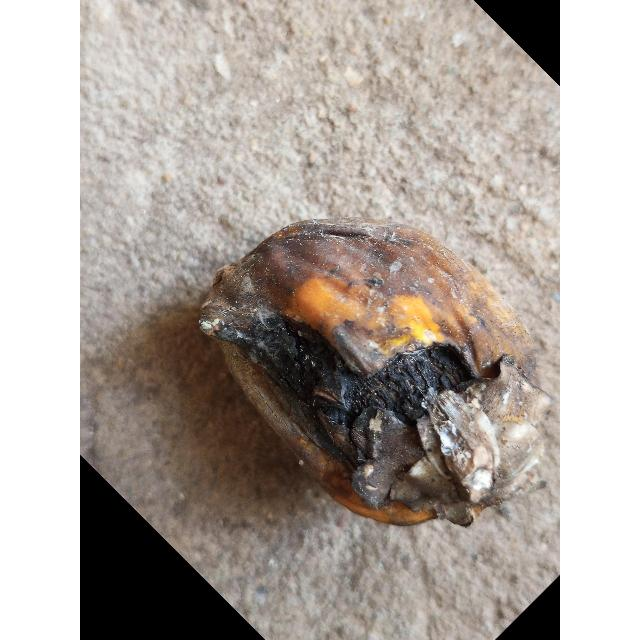damaged: (200, 221, 550, 526)
